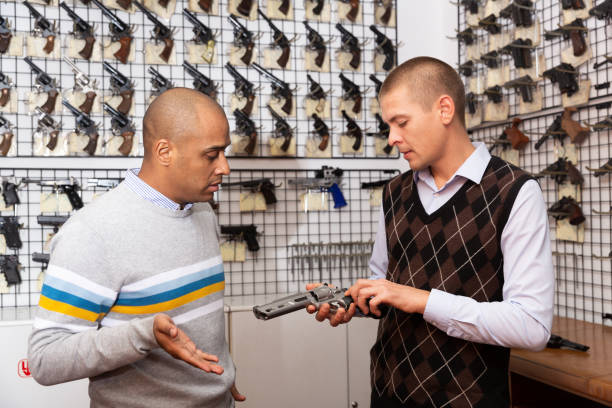gun: (252, 283, 367, 321), (133, 0, 175, 63), (94, 1, 135, 65), (533, 105, 590, 150), (20, 175, 85, 211), (287, 172, 349, 209), (60, 3, 97, 61), (62, 58, 99, 116), (24, 57, 59, 114), (63, 101, 99, 156), (102, 102, 137, 155), (23, 2, 59, 52), (104, 60, 136, 116), (183, 10, 216, 63), (223, 61, 255, 114), (218, 179, 280, 205), (544, 19, 585, 55), (33, 105, 64, 152), (534, 157, 585, 185), (265, 104, 294, 152), (335, 22, 363, 69), (219, 223, 260, 254), (228, 15, 255, 61), (547, 195, 586, 226), (543, 64, 578, 98), (371, 25, 396, 71), (302, 21, 326, 67), (500, 39, 534, 70), (337, 72, 363, 112), (233, 109, 257, 152), (499, 0, 535, 27), (341, 110, 363, 151), (504, 74, 534, 103), (312, 112, 330, 151)
